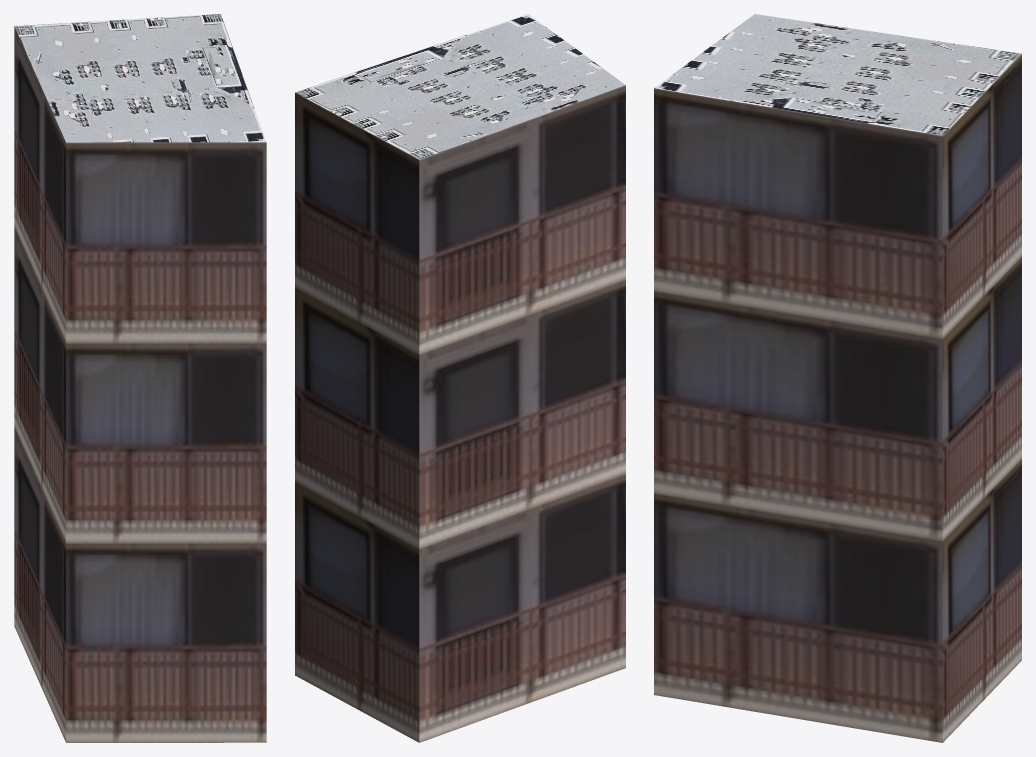
Rendered from ResTex__755.fbx.
The picture shows the model from 3 angles, left to right: view 1: azimuth 30°, elevation 25°; view 2: azimuth 150°, elevation 25°; view 3: azimuth 270°, elevation 25°; orthographic projection. The views are drawn at different scales.
Visible parts, largest first — view 1: CityEngineMaterial_6_m, CityEngineMaterial_4_m; view 2: CityEngineMaterial_6_m, CityEngineMaterial_4_m; view 3: CityEngineMaterial_6_m, CityEngineMaterial_4_m.
Boxes of the visible parts, x1=… form: CityEngineMaterial_6_m: x1=14, y1=26, x2=266, y2=742; CityEngineMaterial_4_m: x1=14, y1=14, x2=266, y2=142; CityEngineMaterial_6_m: x1=295, y1=85, x2=625, y2=742; CityEngineMaterial_4_m: x1=295, y1=14, x2=625, y2=159; CityEngineMaterial_6_m: x1=654, y1=54, x2=1021, y2=742; CityEngineMaterial_4_m: x1=654, y1=14, x2=1021, y2=135.
Size of the model in its own units: 3.89 by 9 by 4.95.
Materials: 2 (2 with a texture image).
